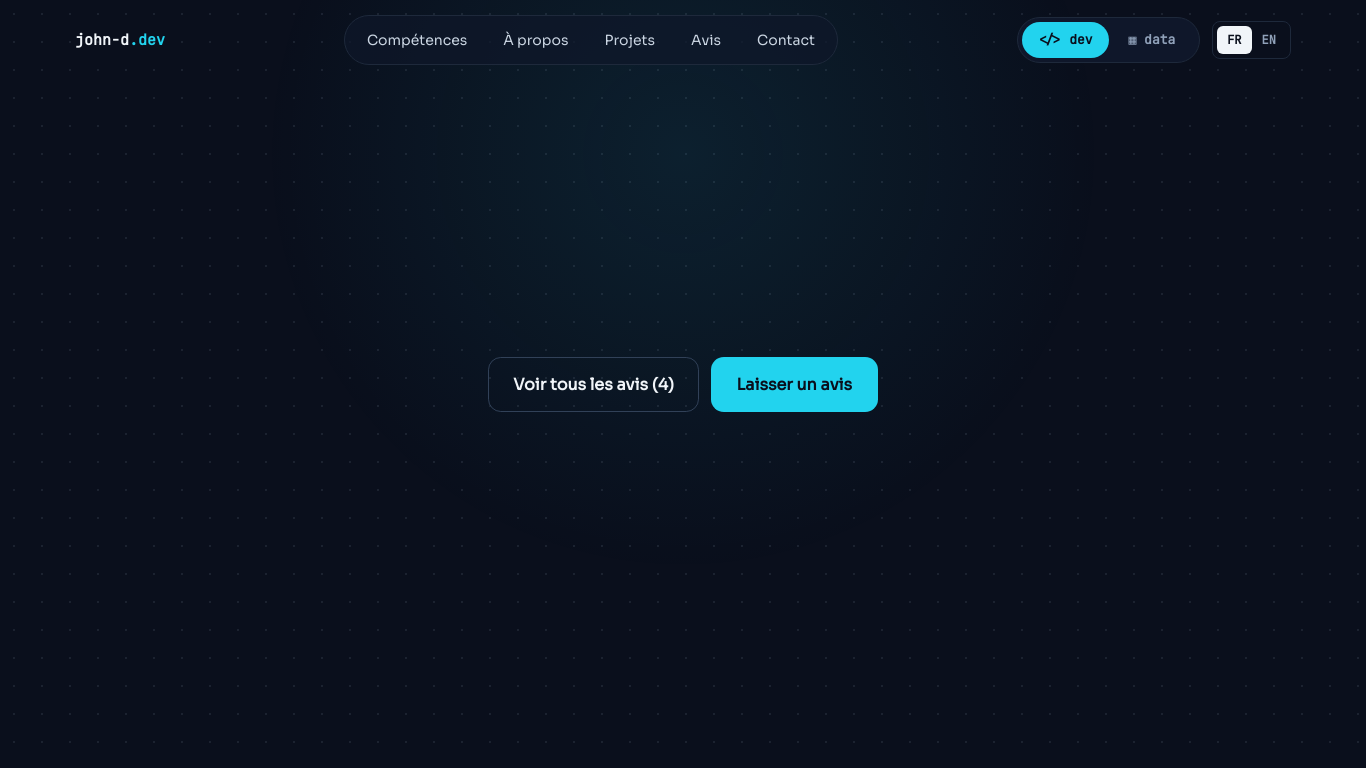
Test: testimonial form › submits a review for moderation
(page scrolled)
Click the button "Laisser un avis" at [794, 385], box [711,357,878,412]
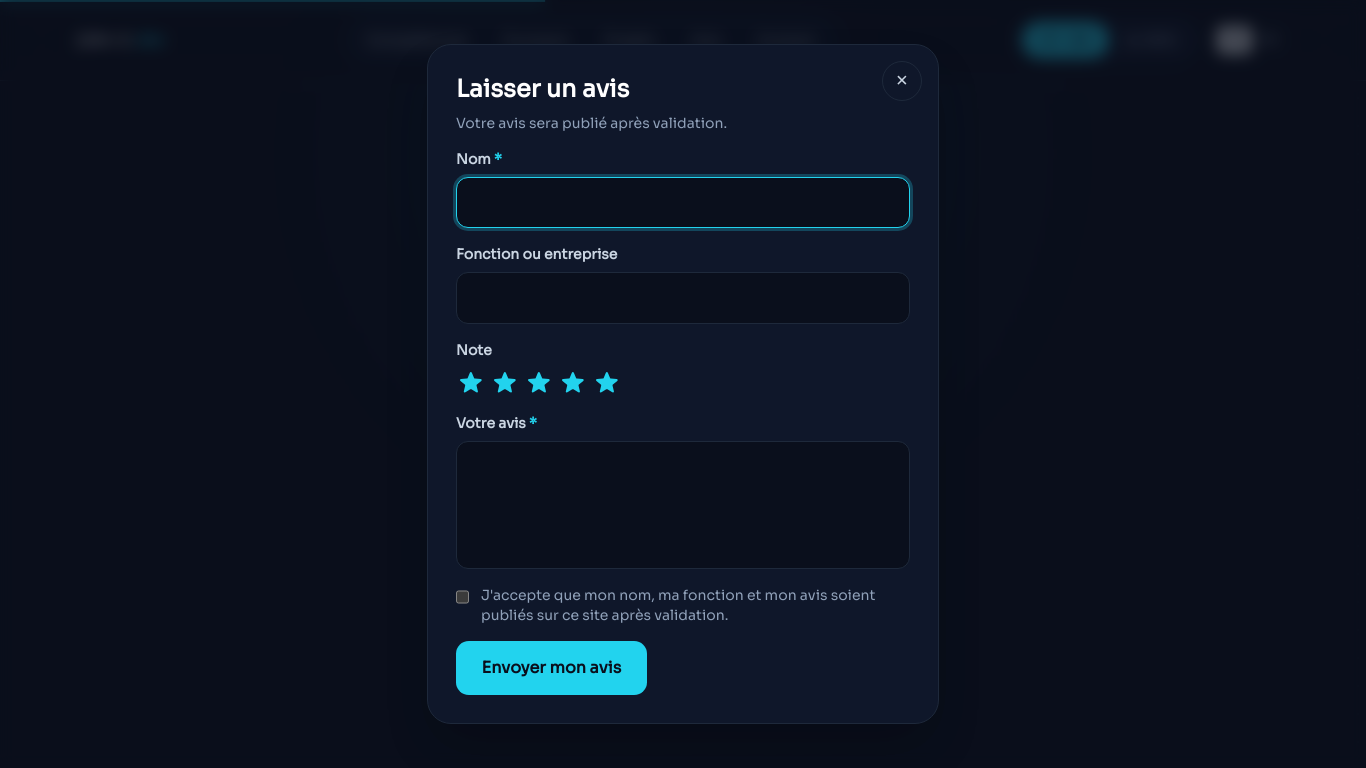
Type "Grace Hopper" into the field labelled "Nom *" at [683, 202], box [456,177,910,228]
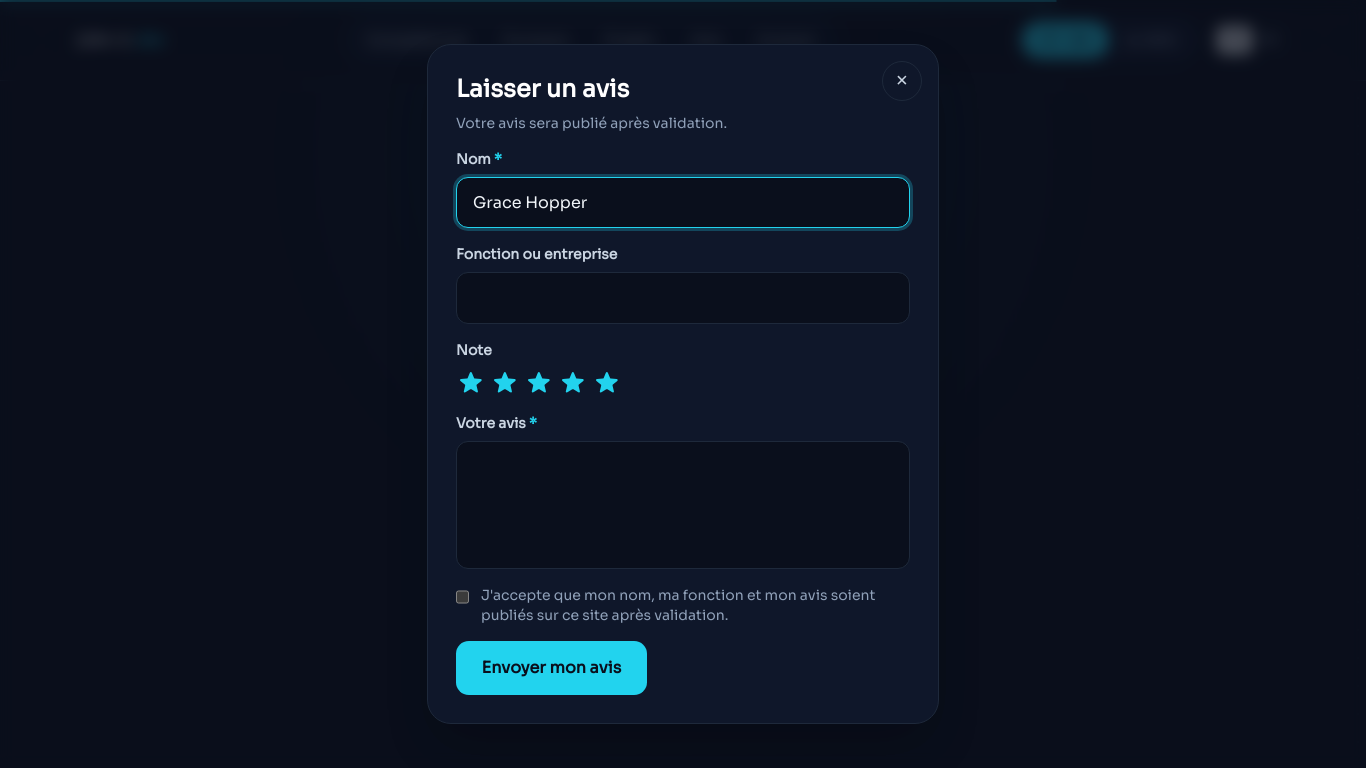
Click the button named "Note : 4 sur 5" at [573, 382], box [558,368,588,397]
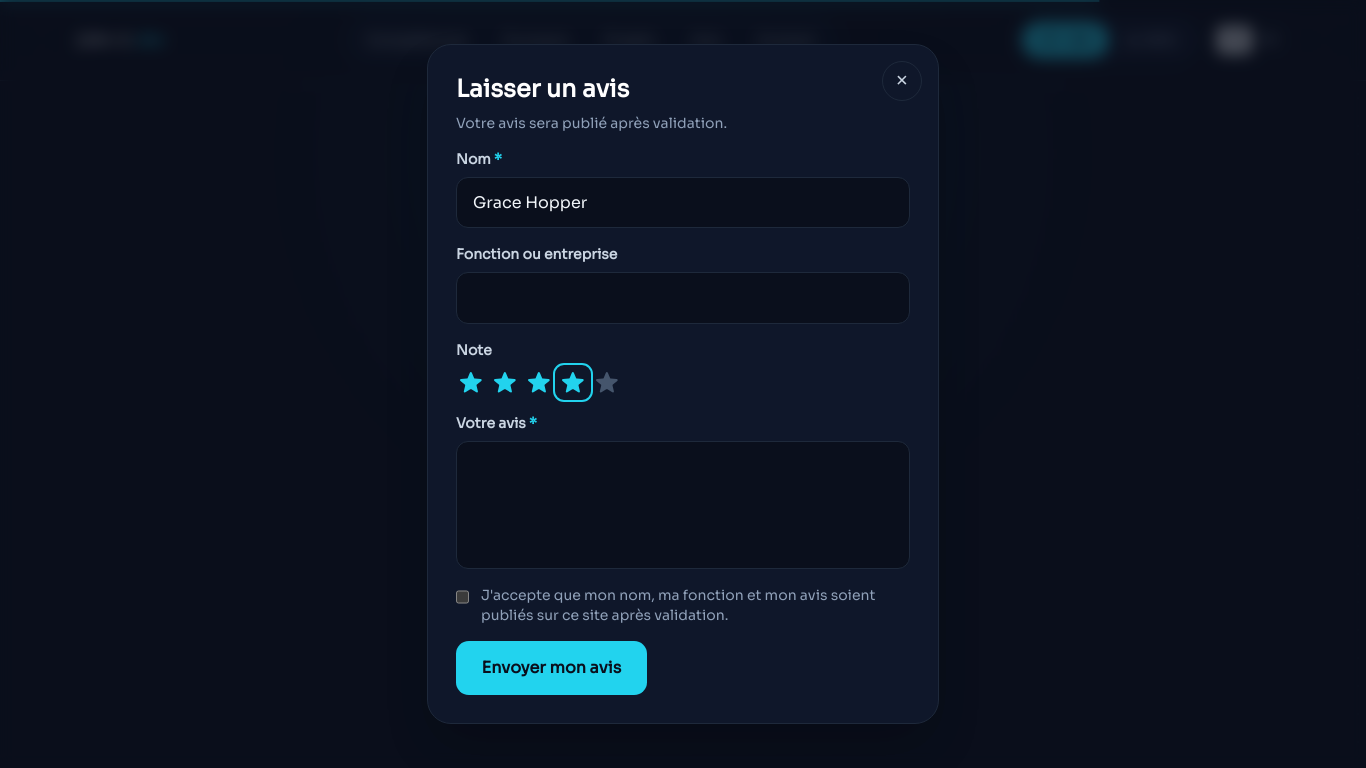
Type "Un travail remarquable et soigné." into the text box labelled "Votre avis *" at [683, 505], box [456,441,910,569]
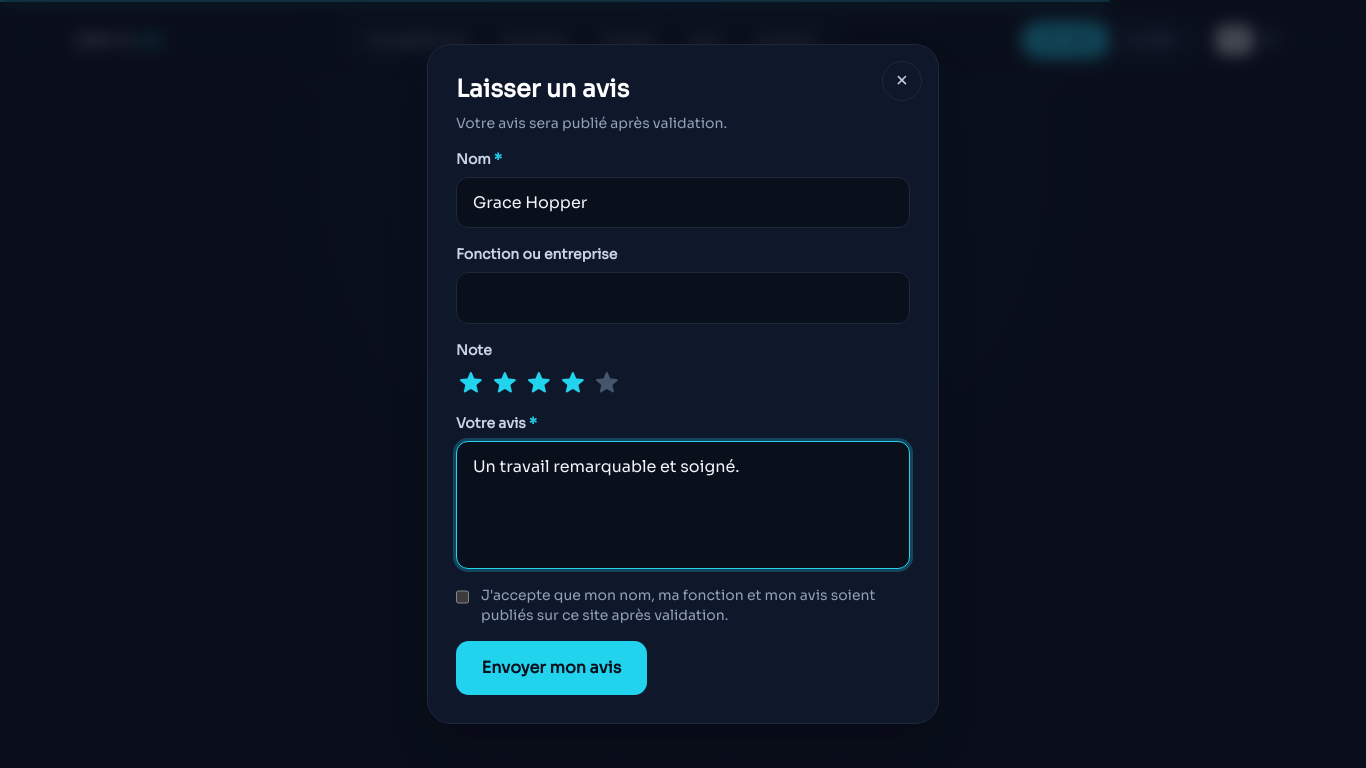
Click the checkbox at [462, 597], box [456,589,469,605]
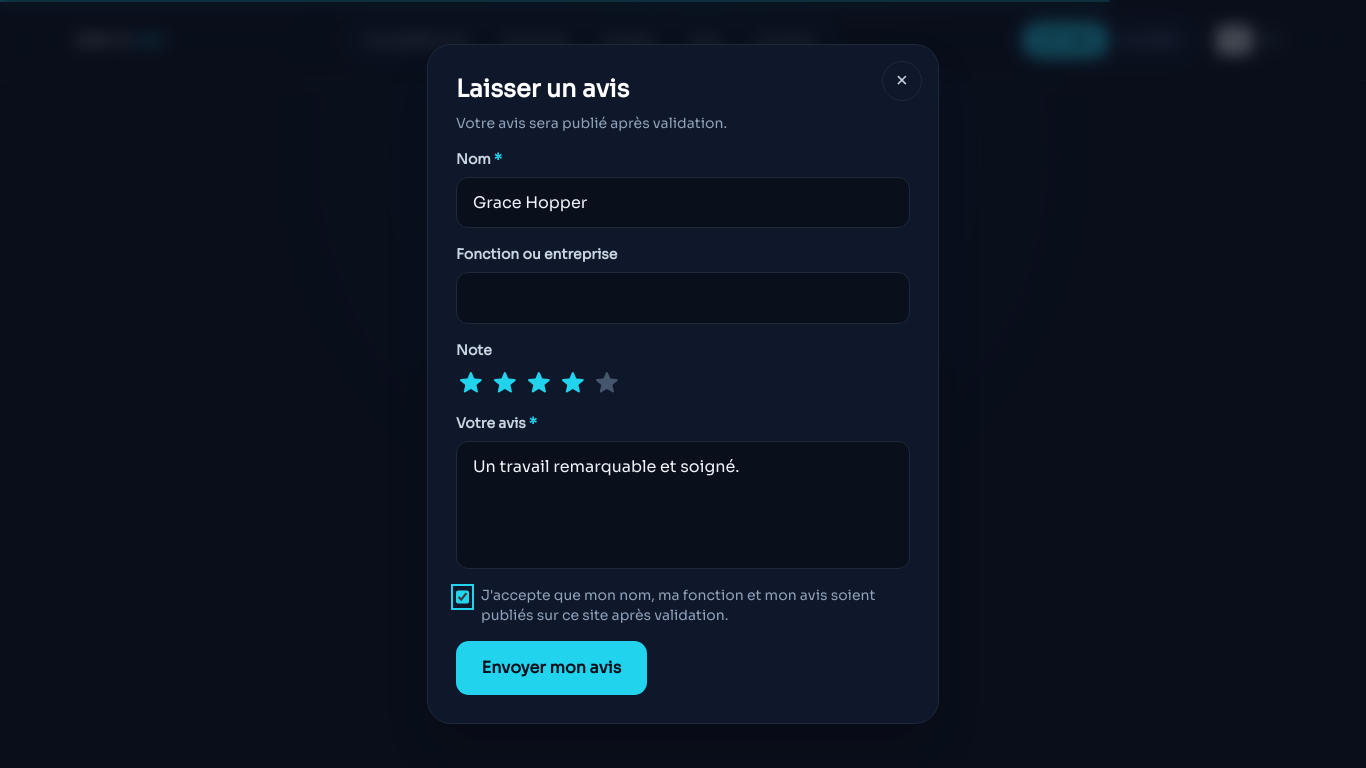
Click the button "Envoyer mon avis" at [551, 668], box [456,641,647,695]
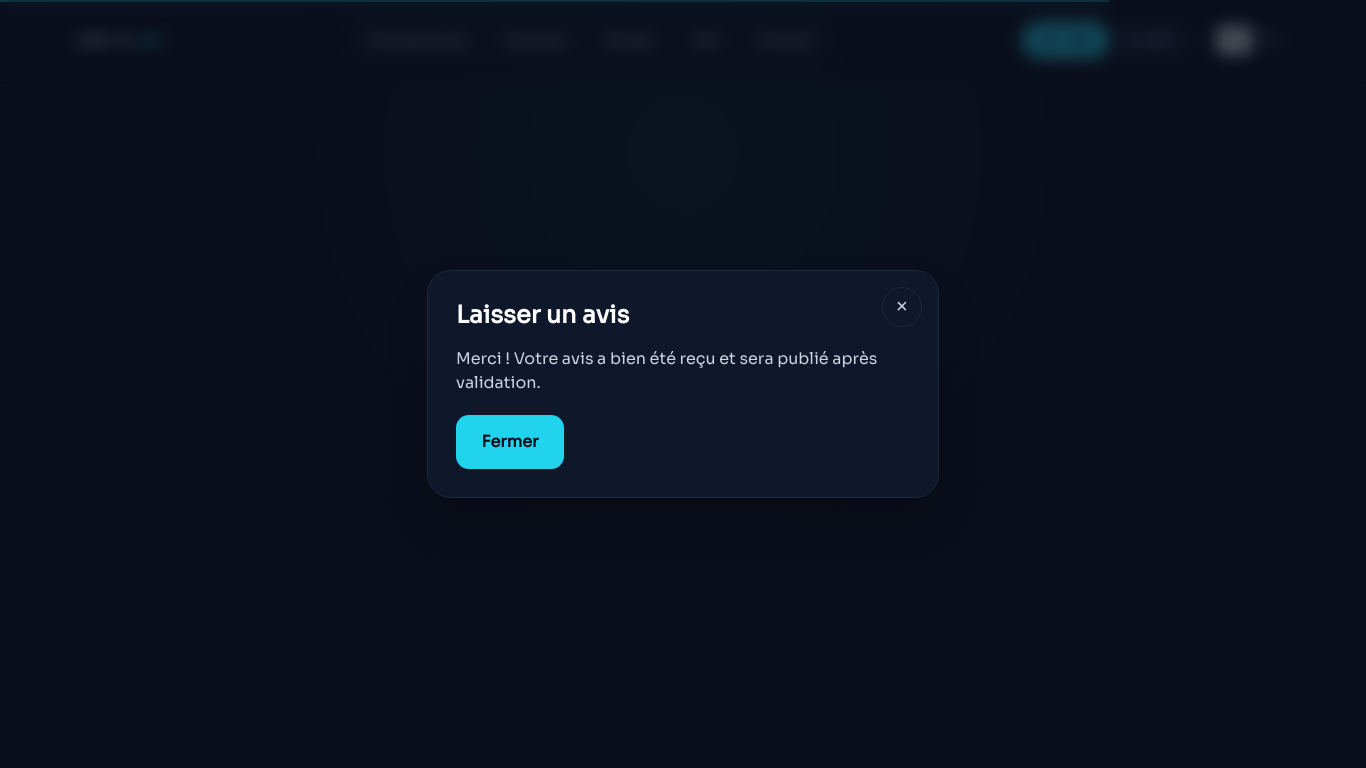
Check: the text "sera publié après validation" is shown, box [456,348,877,393]
